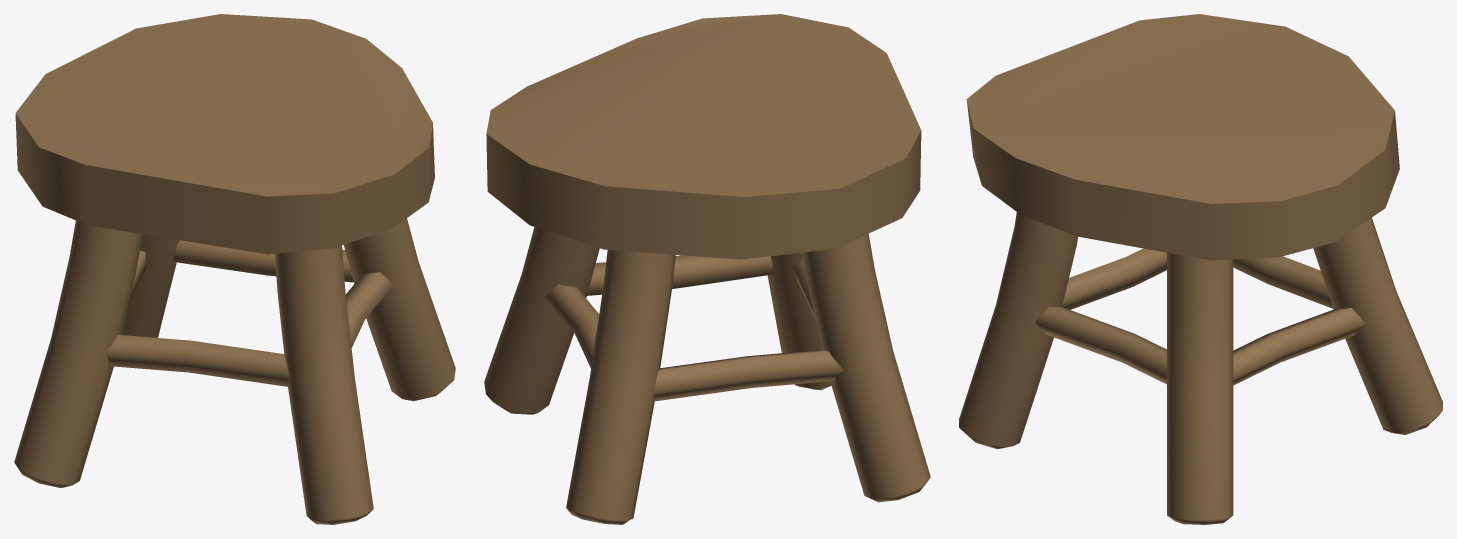
File: taburetka_low_Lv1.fbx
3 views of the same model, side by side, from view 1: azimuth 30°, elevation 25°; view 2: azimuth 150°, elevation 25°; view 3: azimuth 270°, elevation 25° (orthographic). The views are drawn at different scales.
Parts seen in each view (by area): view 1: taburetka_low; view 2: taburetka_low; view 3: taburetka_low.
Part boxes in pixels (x1=…): taburetka_low: x1=14, y1=14, x2=455, y2=524; taburetka_low: x1=484, y1=14, x2=930, y2=524; taburetka_low: x1=959, y1=14, x2=1442, y2=524.
Bounding box in the file's own units: 36.44 × 27.96 × 36.3.
